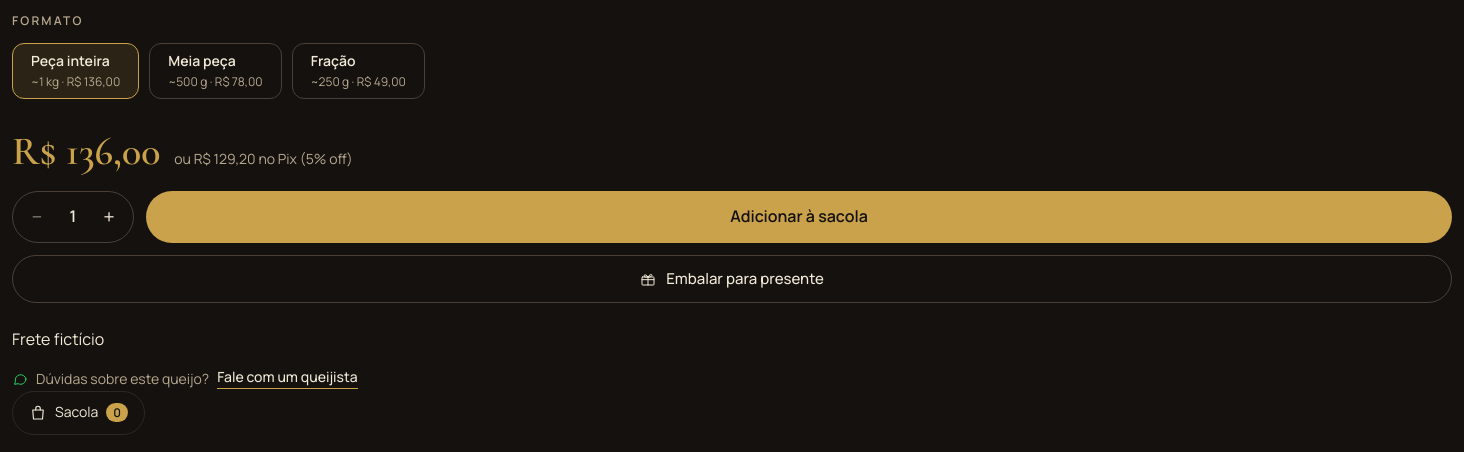
Scenario: PainelDeCompra › "Fração" mostra R$ 49,00 e Pix R$ 46,55
The image size is (1464, 452).
Click the radio button labelled "Fração ~250 g · R$ 49,00".
click(358, 71)  # box [292,43,425,99]
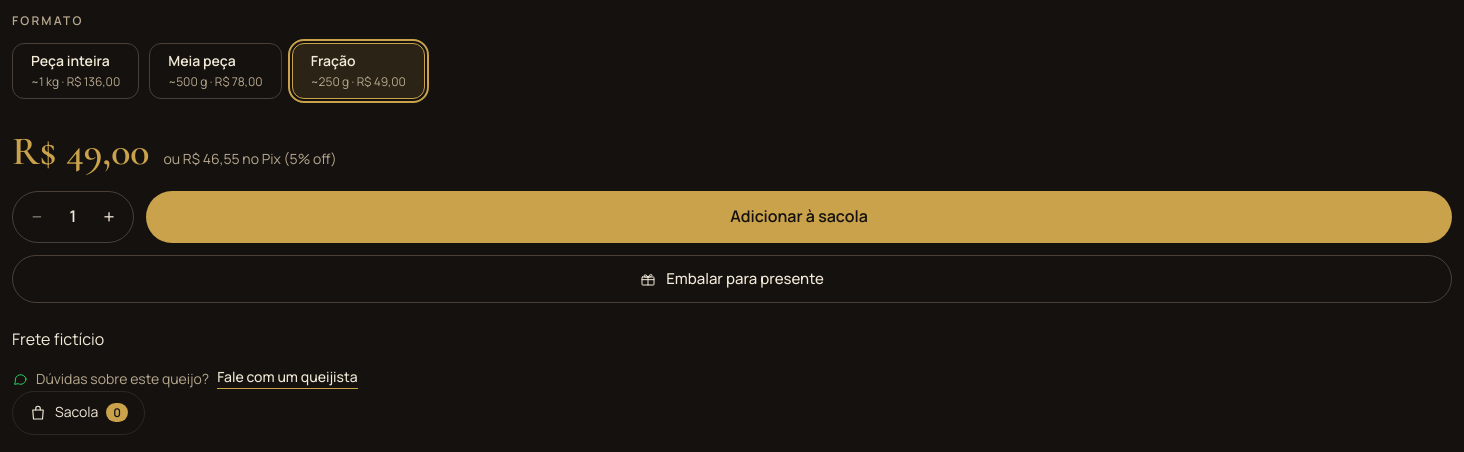
Result: the text "ou R$ 46,55 no Pix (5% off)" is shown at [164,148,337,170]
